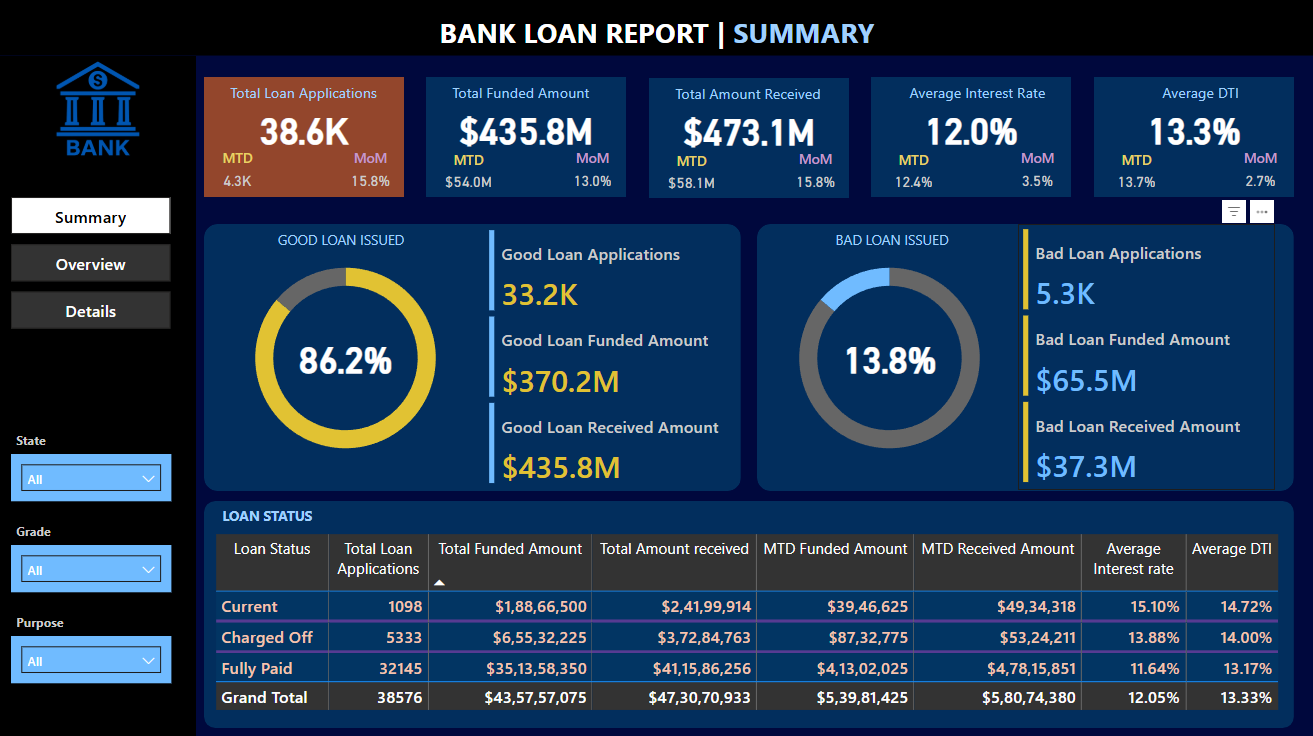

The page's visual inventory and layout, read from the dashboard file:
{"tool":"powerbi","page":{"name":"Summary","canvas":[1280,720],"ordinal":0},"visuals":[{"type":"shape","box":[0,0,1280,55.4],"z":0},{"type":"shape","box":[0,55.4,191.6,664.3],"z":1000},{"type":"textbox","box":[413.4,8.8,453.3,46.7],"z":2000},{"type":"group","id":"g1","title":"Group 1","box":[199.4,75.9,194.5,116.7],"z":3000},{"type":"shape","box":[199.4,75.9,194.5,116.7],"z":3000,"group":"g1"},{"type":"shape","box":[415.8,75.9,194.5,116.7],"z":3000,"group":"g2"},{"type":"shape","box":[848.6,75.9,194.5,116.7],"z":3000,"group":"g4"},{"type":"shape","box":[1065,75.9,194.5,116.7],"z":3000,"group":"g5"},{"type":"shape","box":[632.2,76.8,194.5,116.7],"z":3000,"group":"g3"},{"type":"group","id":"g2","title":"Group 1","box":[415.8,75.9,194.5,116.7],"z":4000},{"type":"card","fields":{"Values":["public loan_data.Total Loan Applications"]},"box":[207.2,91.5,179,68.1],"z":4000,"group":"g1"},{"type":"card","fields":{"Values":["public loan_data.Total Funded Amount"]},"box":[423.6,91.5,179,68.1],"z":4000,"group":"g2"},{"type":"card","fields":{"Values":["public loan_data.Average Interest rate"]},"box":[856.4,91.5,179,68.1],"z":4000,"group":"g4"},{"type":"card","fields":{"Values":["public loan_data.Average DTI"]},"box":[1072.8,91.5,179,68.1],"z":4000,"group":"g5"},{"type":"card","fields":{"Values":["public loan_data.Total Amount received"]},"box":[640,92.4,179,68.1],"z":4000,"group":"g3"},{"type":"textbox","box":[219.8,75.9,166.3,30.2],"z":5000,"group":"g1"},{"type":"textbox","box":[436.2,75.9,166.3,30.2],"z":5000,"group":"g2"},{"type":"textbox","box":[869,75.9,166.3,30.2],"z":5000,"group":"g4"},{"type":"textbox","box":[1085.4,75.9,166.3,30.2],"z":5000,"group":"g5"},{"type":"textbox","box":[652.6,76.8,166.3,30.2],"z":5000,"group":"g3"},{"type":"shape","box":[199.4,218.8,522.3,259.7],"z":5000},{"type":"card","title":"MTD","fields":{"Values":["public loan_data.MTD Loan Application"]},"box":[207.2,145.9,49.6,46.7],"z":6000,"group":"g1"},{"type":"card","title":"MTD","fields":{"Values":["public loan_data.MTD Funded Amount"]},"box":[427.1,148,59.3,44.7],"z":6000,"group":"g2"},{"type":"card","title":"MTD","fields":{"Values":["public loan_data.MTD Avg Interest Rate"]},"box":[859.9,148,59.3,44.7],"z":6000,"group":"g4"},{"type":"card","title":"MTD","fields":{"Values":["public loan_data.MTD Avg dti"]},"box":[1076.3,148,59.3,44.7],"z":6000,"group":"g5"},{"type":"card","title":"MTD","fields":{"Values":["public loan_data.MTD Received Amount"]},"box":[643.5,148.9,59.3,44.7],"z":6000,"group":"g3"},{"type":"card","fields":{"Values":["public loan_data.Good Loan PErcentage"]},"box":[280.1,326.8,113.8,43.8],"z":6000},{"type":"card","title":"MoM","fields":{"Values":["public loan_data.MOM Loan Application"]},"box":[336.5,145.9,49.6,46.7],"z":7000,"group":"g1"},{"type":"card","title":"MoM","fields":{"Values":["public loan_data.MOM Funded Amount"]},"box":[552.9,145.9,49.6,46.7],"z":7000,"group":"g2"},{"type":"card","title":"MoM","fields":{"Values":["public loan_data.MOM Avg Interest Rate"]},"box":[985.7,145.9,49.6,46.7],"z":7000,"group":"g4"},{"type":"card","title":"MoM","fields":{"Values":["public loan_data.MOM Avg dti"]},"box":[1202.1,145.9,49.6,46.7],"z":7000,"group":"g5"},{"type":"card","title":"MoM","fields":{"Values":["public loan_data.MOM Received Amount"]},"box":[769.3,146.8,49.6,46.7],"z":7000,"group":"g3"},{"type":"textbox","box":[245.1,219.8,175.1,28.2],"z":7000},{"type":"group","id":"g3","title":"Group 1","box":[632.2,76.8,194.5,116.7],"z":8000},{"type":"group","id":"g4","title":"Group 1","box":[848.6,75.9,194.5,116.7],"z":9000},{"type":"group","id":"g5","title":"Group 1","box":[1065,75.9,194.5,116.7],"z":10000},{"type":"shape","box":[199.4,488.3,1060.2,220.8],"z":11000},{"type":"shape","box":[737.3,218.8,522.3,259.7],"z":12000},{"type":"donutChart","fields":{"Category":["public loan_data.Good Vs Bad Loan"],"Y":["public loan_data.Total Loan Applications"]},"box":[212,234.4,250,229.5],"z":13000},{"type":"cardVisual","fields":{"Data":["public loan_data.Good Loan application","public loan_data.Good Loan Funded Amount","public loan_data.Good Loan Received Amount"]},"box":[471.7,219.8,250,258.7],"z":14000},{"type":"donutChart","fields":{"Category":["public loan_data.Good Vs Bad Loan"],"Y":["public loan_data.Total Loan Applications"]},"box":[741.2,234.4,250,229.5],"z":15000},{"type":"card","fields":{"Values":["public loan_data.Bad Loan Percentage"]},"box":[809.2,326.8,113.8,43.8],"z":16000},{"type":"textbox","box":[781,219.8,175.1,28.2],"z":17000},{"type":"tableEx","fields":{"Values":["public loan_data.loan_status","public loan_data.Total Loan Applications","public loan_data.Total Funded Amount","public loan_data.Total Amount received","public loan_data.MTD Funded Amount","public loan_data.MTD Received Amount","public loan_data.Average Interest rate","public loan_data.Average DTI"]},"box":[205.2,515.5,1047.5,184.8],"z":18000},{"type":"cardVisual","fields":{"Data":["public loan_data.Bad Loan Applications","public loan_data.Bad Loan Funded Amount","public loan_data.Bad Loan Received Amount"]},"box":[991.1,218.8,250,258.7],"z":19000},{"type":"textbox","box":[212,488.3,182.9,28.2],"z":20000},{"type":"slicer","fields":{"Values":["public loan_data.address_state"]},"box":[11.7,442.6,155.6,45.7],"z":21000},{"type":"textbox","box":[11.7,414.3,50.6,28.2],"z":22000},{"type":"slicer","fields":{"Values":["public loan_data.grade"]},"box":[11.7,531.1,155.6,45.7],"z":23000},{"type":"slicer","fields":{"Values":["public loan_data.purpose"]},"box":[11.7,619.6,155.6,45.7],"z":24000},{"type":"textbox","box":[11.7,502.9,60.3,28.2],"z":25000},{"type":"textbox","box":[11.7,591.4,77.8,28.2],"z":26000},{"type":"pageNavigator","box":[11.7,192.6,155.6,130.3],"z":27000},{"type":"image","box":[30.2,32.1,132.3,149.8],"z":27001}]}

Visuals, with their boxes in screenshot pixels (x1, y1, x2, y2), scaled from the page's 1280x720 canvas onto the 1313x736 screenshot:
shape: bbox=[0, 0, 1312, 57]
shape: bbox=[0, 57, 197, 735]
textbox: bbox=[424, 9, 889, 57]
"Group 1" group: bbox=[205, 78, 404, 197]
shape: bbox=[205, 78, 404, 197]
shape: bbox=[427, 78, 626, 197]
shape: bbox=[870, 78, 1070, 197]
shape: bbox=[1092, 78, 1292, 197]
shape: bbox=[648, 79, 848, 198]
"Group 1" group: bbox=[427, 78, 626, 197]
card - public loan_data.Total Loan Applications: bbox=[213, 94, 396, 163]
card - public loan_data.Total Funded Amount: bbox=[435, 94, 618, 163]
card - public loan_data.Average Interest rate: bbox=[878, 94, 1062, 163]
card - public loan_data.Average DTI: bbox=[1100, 94, 1284, 163]
card - public loan_data.Total Amount received: bbox=[656, 94, 840, 164]
textbox: bbox=[225, 78, 396, 108]
textbox: bbox=[447, 78, 618, 108]
textbox: bbox=[891, 78, 1062, 108]
textbox: bbox=[1113, 78, 1284, 108]
textbox: bbox=[669, 79, 840, 109]
shape: bbox=[205, 224, 740, 489]
"MTD" card: bbox=[213, 149, 263, 197]
"MTD" card: bbox=[438, 151, 499, 197]
"MTD" card: bbox=[882, 151, 943, 197]
"MTD" card: bbox=[1104, 151, 1165, 197]
"MTD" card: bbox=[660, 152, 721, 198]
card - public loan_data.Good Loan PErcentage: bbox=[287, 334, 404, 379]
"MoM" card: bbox=[345, 149, 396, 197]
"MoM" card: bbox=[567, 149, 618, 197]
"MoM" card: bbox=[1011, 149, 1062, 197]
"MoM" card: bbox=[1233, 149, 1284, 197]
"MoM" card: bbox=[789, 150, 840, 198]
textbox: bbox=[251, 225, 431, 254]
"Group 1" group: bbox=[648, 79, 848, 198]
"Group 1" group: bbox=[870, 78, 1070, 197]
"Group 1" group: bbox=[1092, 78, 1292, 197]
shape: bbox=[205, 499, 1292, 725]
shape: bbox=[756, 224, 1292, 489]
donutChart - public loan_data.Good Vs Bad Loan x public loan_data.Total Loan Applications: bbox=[217, 240, 474, 474]
cardVisual - public loan_data.Good Loan application x public loan_data.Good Loan Funded Amount: bbox=[484, 225, 740, 489]
donutChart - public loan_data.Good Vs Bad Loan x public loan_data.Total Loan Applications: bbox=[760, 240, 1017, 474]
card - public loan_data.Bad Loan Percentage: bbox=[830, 334, 947, 379]
textbox: bbox=[801, 225, 981, 254]
tableEx - public loan_data.loan_status x public loan_data.Total Loan Applications: bbox=[210, 527, 1285, 716]
cardVisual - public loan_data.Bad Loan Applications x public loan_data.Bad Loan Funded Amount: bbox=[1017, 224, 1273, 488]
textbox: bbox=[217, 499, 405, 528]
slicer - public loan_data.address_state: bbox=[12, 452, 172, 499]
textbox: bbox=[12, 424, 64, 452]
slicer - public loan_data.grade: bbox=[12, 543, 172, 590]
slicer - public loan_data.purpose: bbox=[12, 633, 172, 680]
textbox: bbox=[12, 514, 74, 543]
textbox: bbox=[12, 605, 92, 633]
pageNavigator: bbox=[12, 197, 172, 330]
image: bbox=[31, 33, 167, 186]
